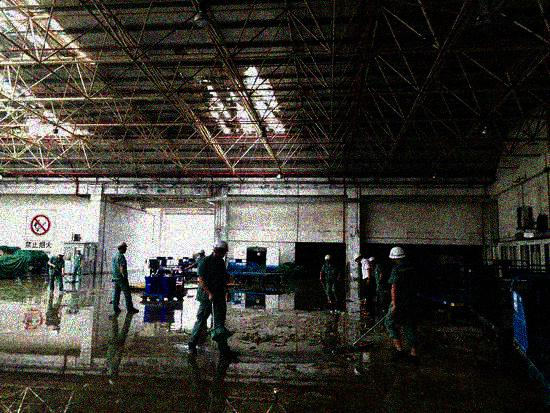helmet: (387, 246, 407, 265), (213, 239, 228, 260), (116, 240, 129, 254), (325, 253, 334, 265), (353, 253, 363, 263), (368, 256, 376, 264), (75, 246, 82, 255), (58, 251, 65, 259)
